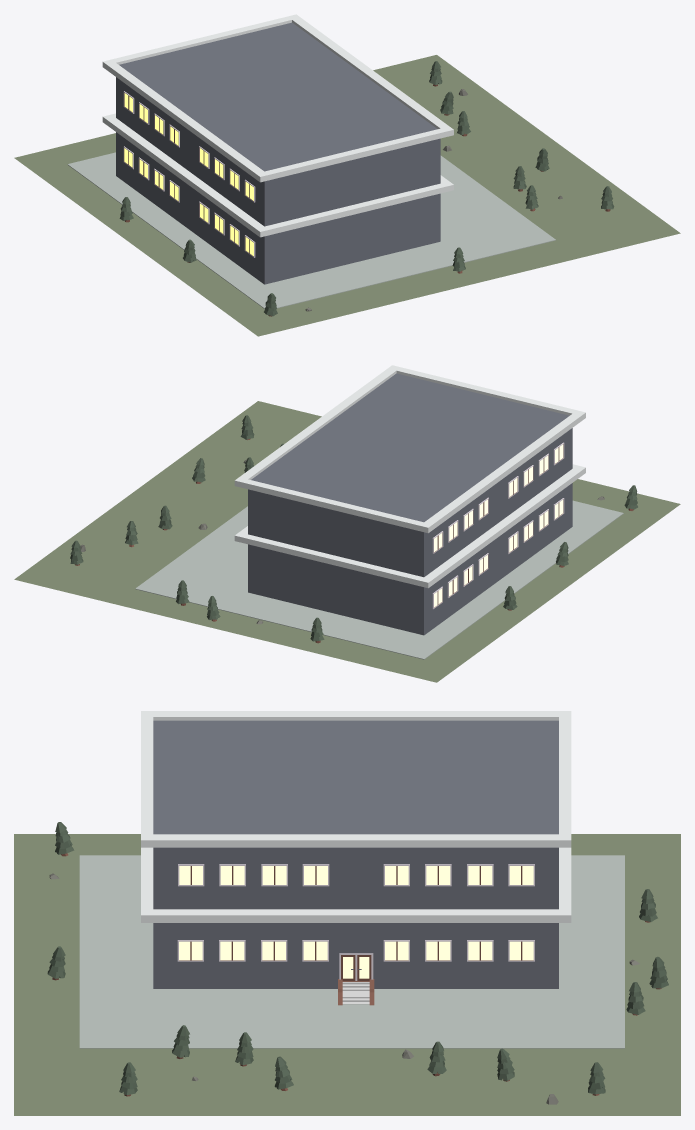
Rendered from office.glb.
The picture shows the model from 3 angles, top to bottom: view 1: azimuth 30°, elevation 25°; view 2: azimuth 150°, elevation 25°; view 3: azimuth 270°, elevation 25°; orthographic projection. The views are drawn at different scales.
Parts seen in each view (by area): view 1: Building, Plane.005, Plane.001, window2.001; view 2: Building, Plane.005, Plane.001, window2.001; view 3: Building, Plane.005, Plane.001, window2.004, door, Stairs.
Boxes of the visible parts, x1=… form: Building: x1=102, y1=14, x2=453, y2=284; Plane.005: x1=14, y1=55, x2=680, y2=336; Plane.001: x1=67, y1=152, x2=555, y2=308; window2.001: x1=123, y1=91, x2=255, y2=257; Building: x1=234, y1=365, x2=585, y2=635; Plane.005: x1=14, y1=401, x2=680, y2=682; Plane.001: x1=135, y1=500, x2=623, y2=659; window2.001: x1=432, y1=442, x2=564, y2=609; Building: x1=141, y1=711, x2=571, y2=988; Plane.005: x1=14, y1=834, x2=680, y2=1115; Plane.001: x1=79, y1=855, x2=624, y2=1048; window2.004: x1=177, y1=864, x2=534, y2=961; door: x1=339, y1=953, x2=373, y2=981; Stairs: x1=338, y1=979, x2=374, y2=1005.
Size of the model in its own units: 120 by 32.15 by 120.
